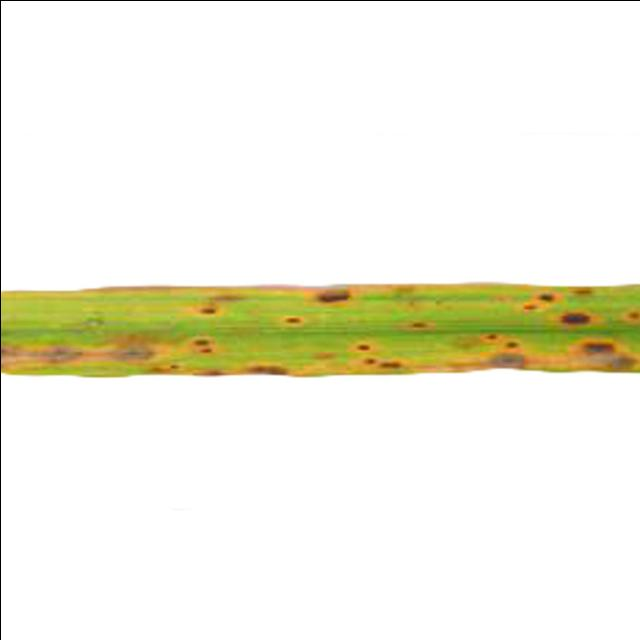Brown spot: (0, 222, 640, 436)
